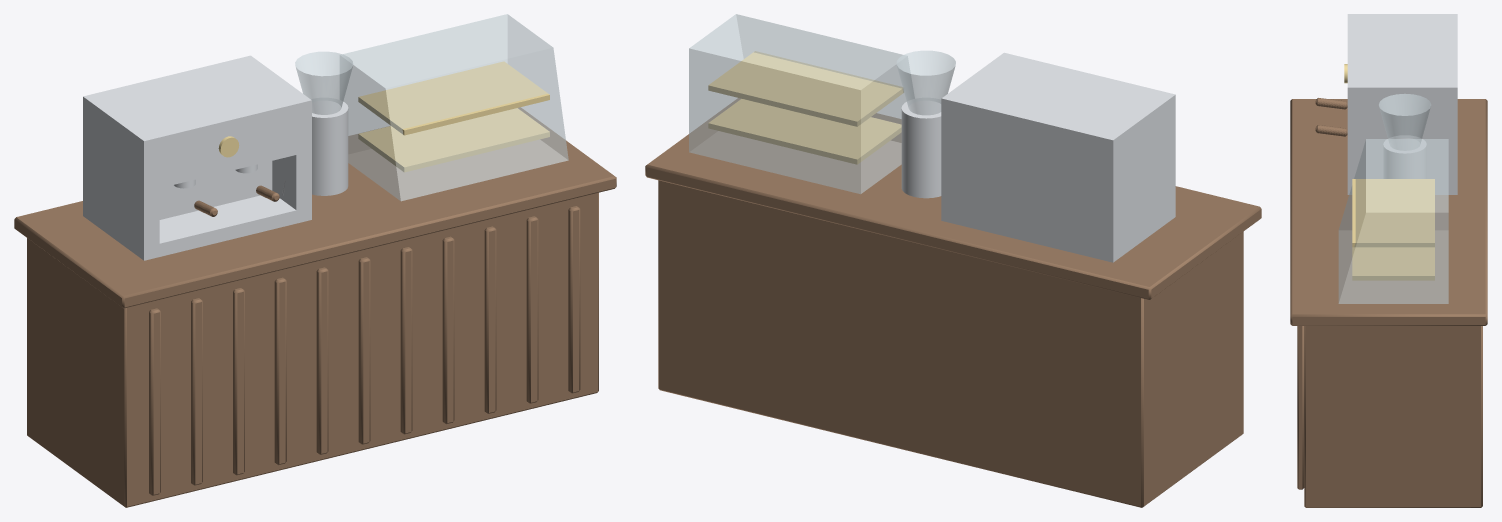
File: modern-cafe-espresso-bar-v12.glb
The picture shows the model from 3 angles, left to right: view 1: azimuth 30°, elevation 25°; view 2: azimuth 150°, elevation 25°; view 3: azimuth 270°, elevation 25°; orthographic projection. The views are drawn at different scales.
Visible parts, largest first — view 1: WalnutCounterBody, StainlessEspressoChassis, ShowcaseGlassCanopy, BrassTrimAccents; view 2: WalnutCounterBody, StainlessEspressoChassis, ShowcaseGlassCanopy, BrassTrimAccents; view 3: WalnutCounterBody, ShowcaseGlassCanopy, StainlessEspressoChassis, BrassTrimAccents.
Boxes of the visible parts, x1,y1,x2,y2 form: WalnutCounterBody: (14,107,616,507); StainlessEspressoChassis: (83,55,348,260); ShowcaseGlassCanopy: (295,14,568,201); BrassTrimAccents: (218,61,549,172); WalnutCounterBody: (645,98,1261,507); StainlessEspressoChassis: (901,52,1175,262); ShowcaseGlassCanopy: (689,14,955,193); BrassTrimAccents: (708,51,903,164); WalnutCounterBody: (1290,98,1487,507); ShowcaseGlassCanopy: (1338,94,1448,303); StainlessEspressoChassis: (1347,14,1457,194); BrassTrimAccents: (1344,64,1434,280).
Size of the model in its own units: 2.24 by 1.48 by 0.86.
